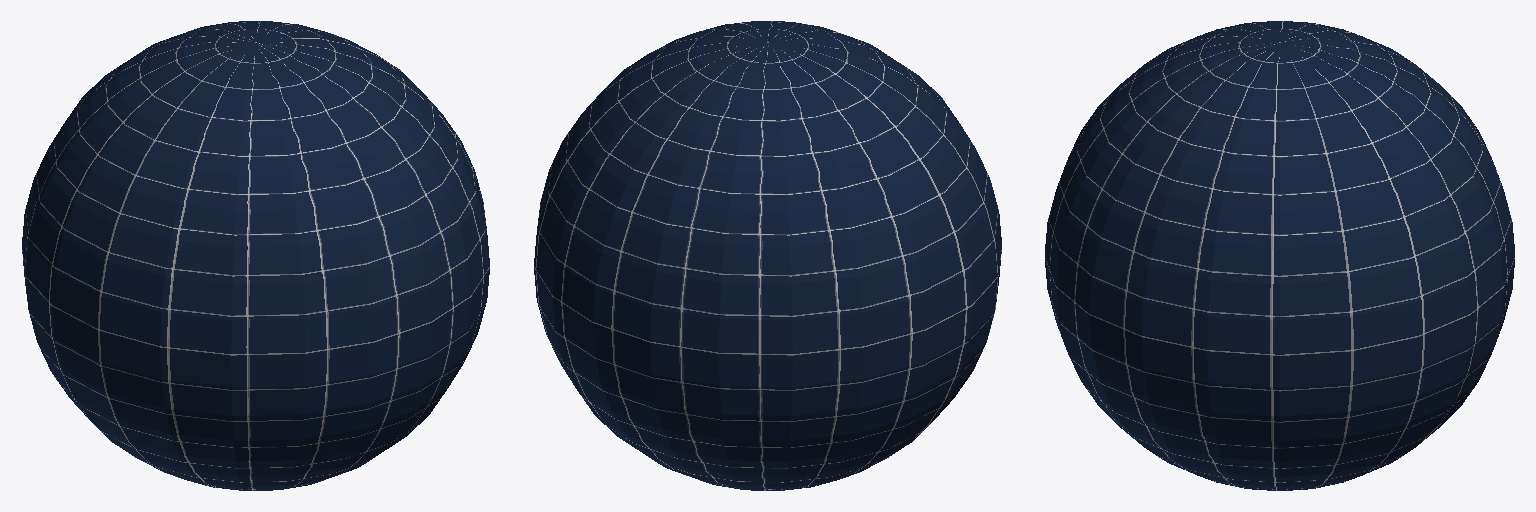
The picture shows the model from 3 angles: view 1: azimuth 30°, elevation 25°; view 2: azimuth 150°, elevation 25°; view 3: azimuth 270°, elevation 25°; orthographic projection.
Visible parts, largest first — view 1: pSphere1_lambert1_0; view 2: pSphere1_lambert1_0; view 3: pSphere1_lambert1_0.
Part boxes in pixels (left/top/right/bottom): pSphere1_lambert1_0: left=22, top=21, right=489, bottom=490; pSphere1_lambert1_0: left=534, top=21, right=1001, bottom=490; pSphere1_lambert1_0: left=1045, top=21, right=1514, bottom=490.
Bounding box in the file's own units: 2 × 2 × 2.
1 materials, 1 textured.